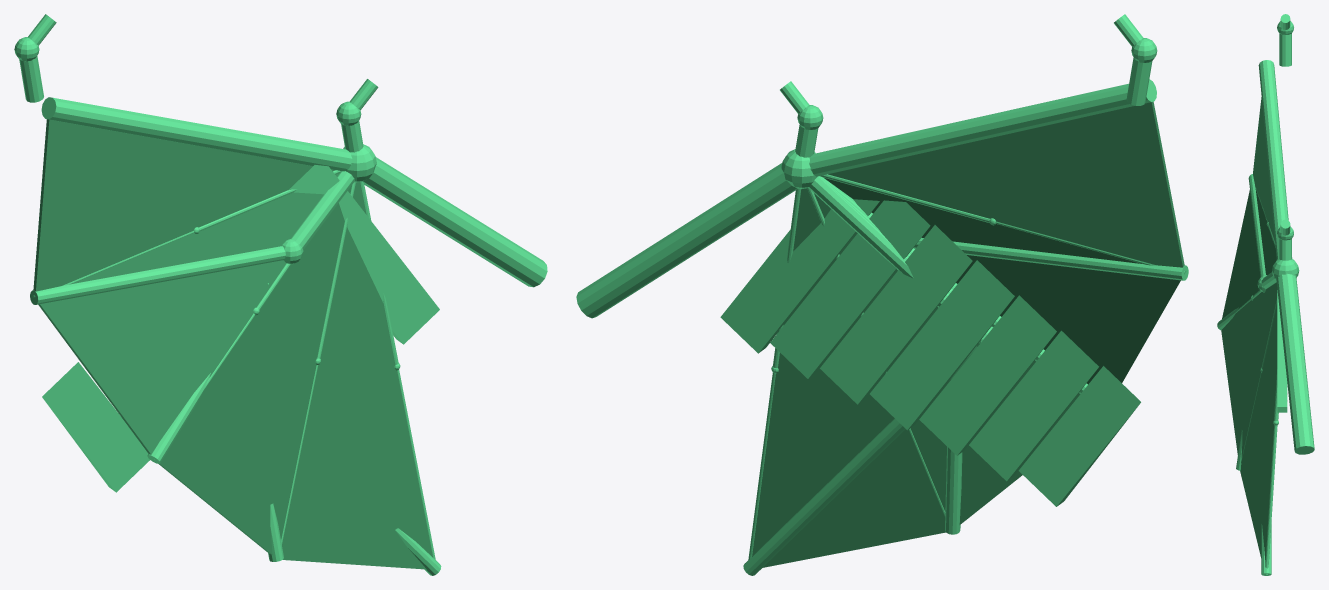
File: WindWingLeft.obj
3 renders of one model, left to right at view 1: azimuth 30°, elevation 25°; view 2: azimuth 150°, elevation 25°; view 3: azimuth 270°, elevation 25°, orthographic. The views are drawn at different scales.
Parts seen in each view (by area): view 1: WindWingLeft; view 2: WindWingLeft; view 3: WindWingLeft.
Part boxes in pixels (x1,y1,x2,y2): WindWingLeft: [14, 14, 547, 575]; WindWingLeft: [576, 14, 1188, 575]; WindWingLeft: [1217, 14, 1314, 575].
Bounding box in the file's own units: 6.81 × 7.61 × 1.53.
